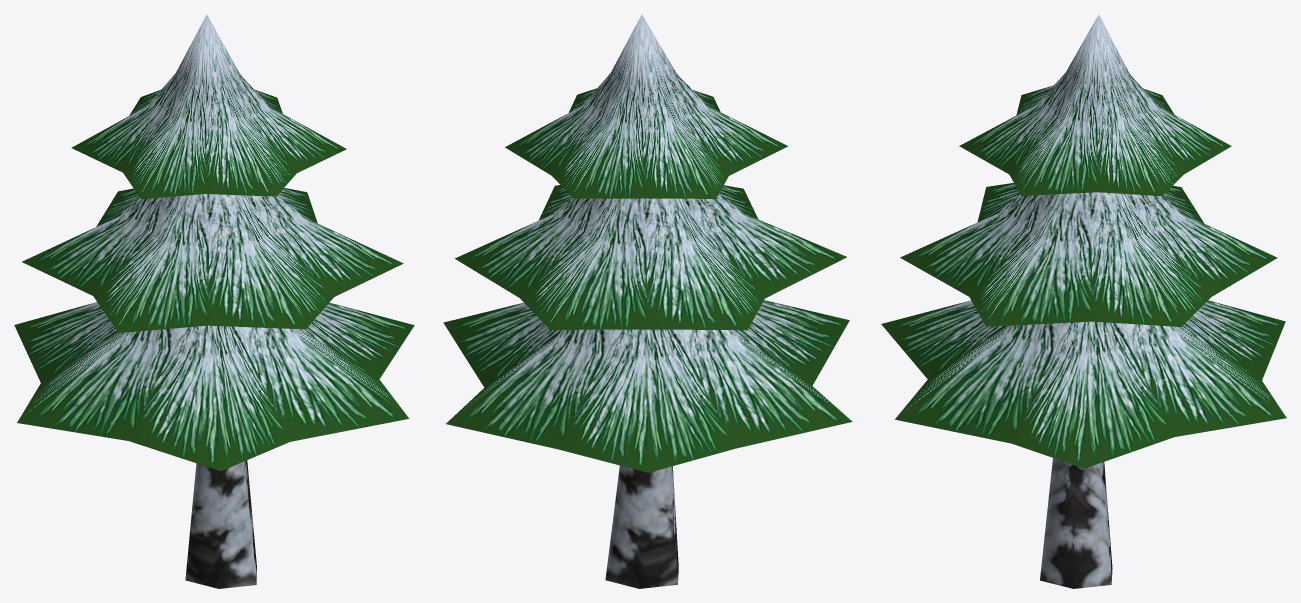
File: Stage_BingYuan_Shu03.FBX
3 views of the same model, side by side, from view 1: azimuth 30°, elevation 25°; view 2: azimuth 150°, elevation 25°; view 3: azimuth 270°, elevation 25° (orthographic). The views are drawn at different scales.
Visible parts, largest first — view 1: Stage_BingYuan_Shu03; view 2: Stage_BingYuan_Shu03; view 3: Stage_BingYuan_Shu03.
Part boxes in pixels (x1,y1,x2,y2): Stage_BingYuan_Shu03: (14, 14, 414, 588); Stage_BingYuan_Shu03: (443, 14, 852, 588); Stage_BingYuan_Shu03: (881, 14, 1286, 588).
Bounding box in the file's own units: 284 × 377 × 249.
